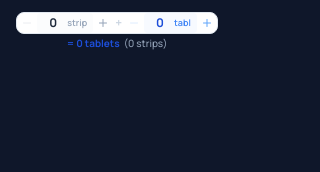
Test case: SmartQtyInput strict quantity validation › rejects letters with an inline error and never emits a quantity
In the field titled "enter strip count": (53, 23) [39,13,67,33], type "abc"
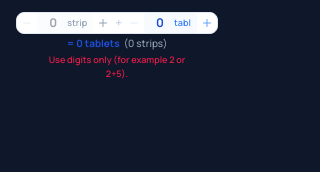
Expected: the message shows "digits", [49,53,185,80]
